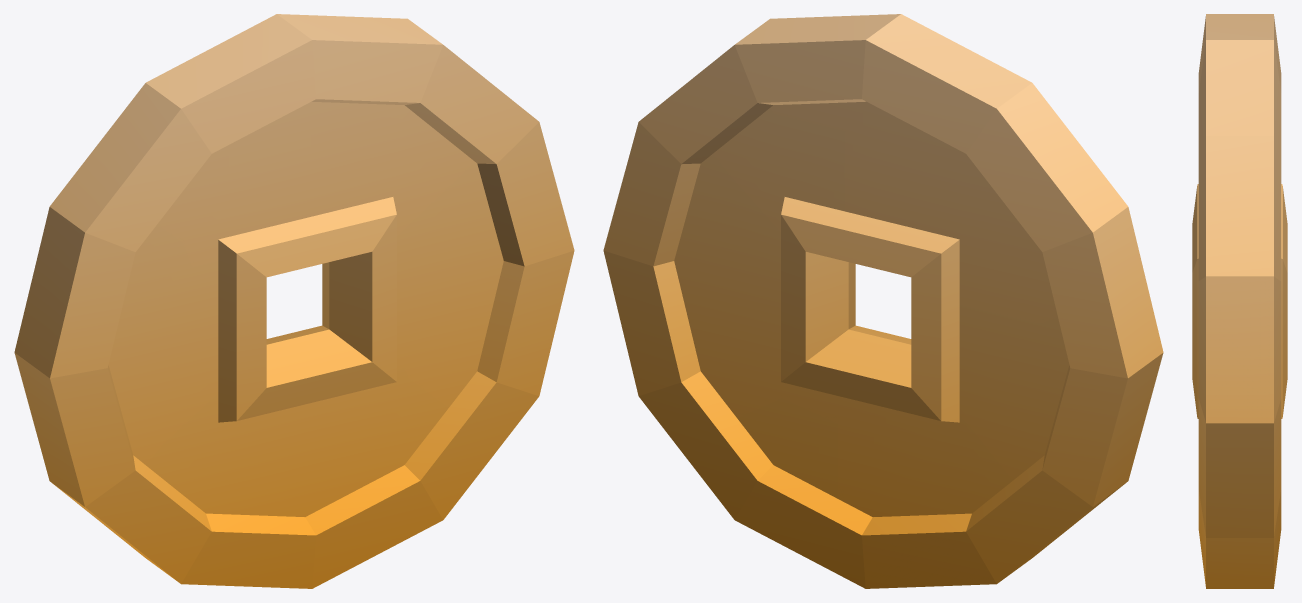
Rendered from m_Coin.fbx.
3 renders of one model, left to right at view 1: azimuth 30°, elevation 25°; view 2: azimuth 150°, elevation 25°; view 3: azimuth 270°, elevation 25°, orthographic. The views are drawn at different scales.
Visible parts, largest first — view 1: mynt_Pickup; view 2: mynt_Pickup; view 3: mynt_Pickup.
Boxes of the visible parts, bbox=[...] form: mynt_Pickup: bbox=[14, 14, 574, 588]; mynt_Pickup: bbox=[603, 14, 1163, 588]; mynt_Pickup: bbox=[1192, 14, 1287, 588].
Bounding box in the file's own units: 74.14 × 74.14 × 12.25.
